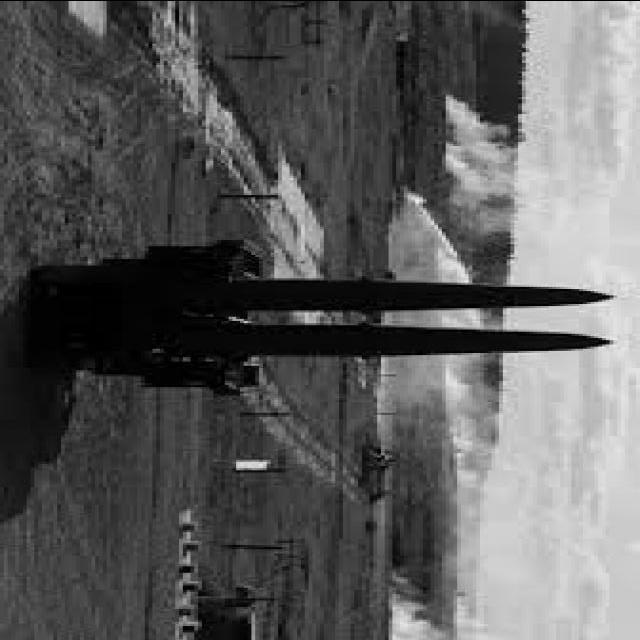Missile: (223, 315, 631, 361), (235, 271, 640, 309)
